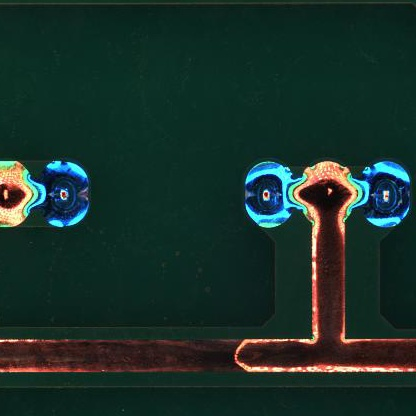spot: (243, 159, 296, 228), (41, 158, 90, 227), (361, 161, 409, 230)
